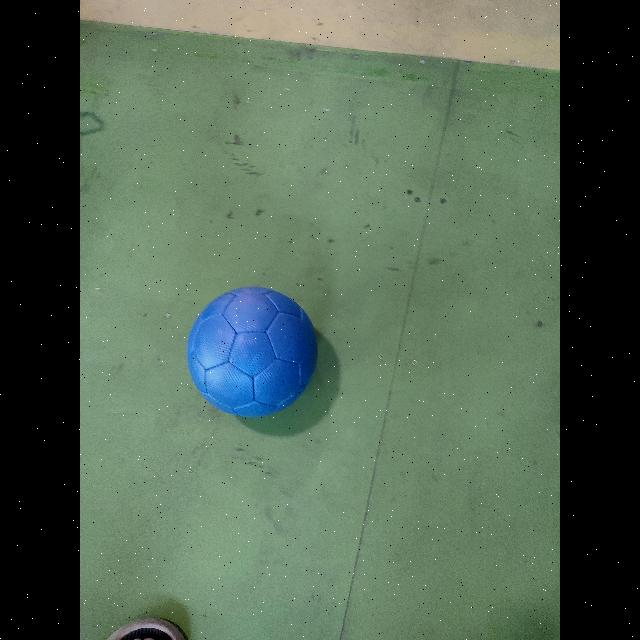B: (187, 287, 317, 417)
